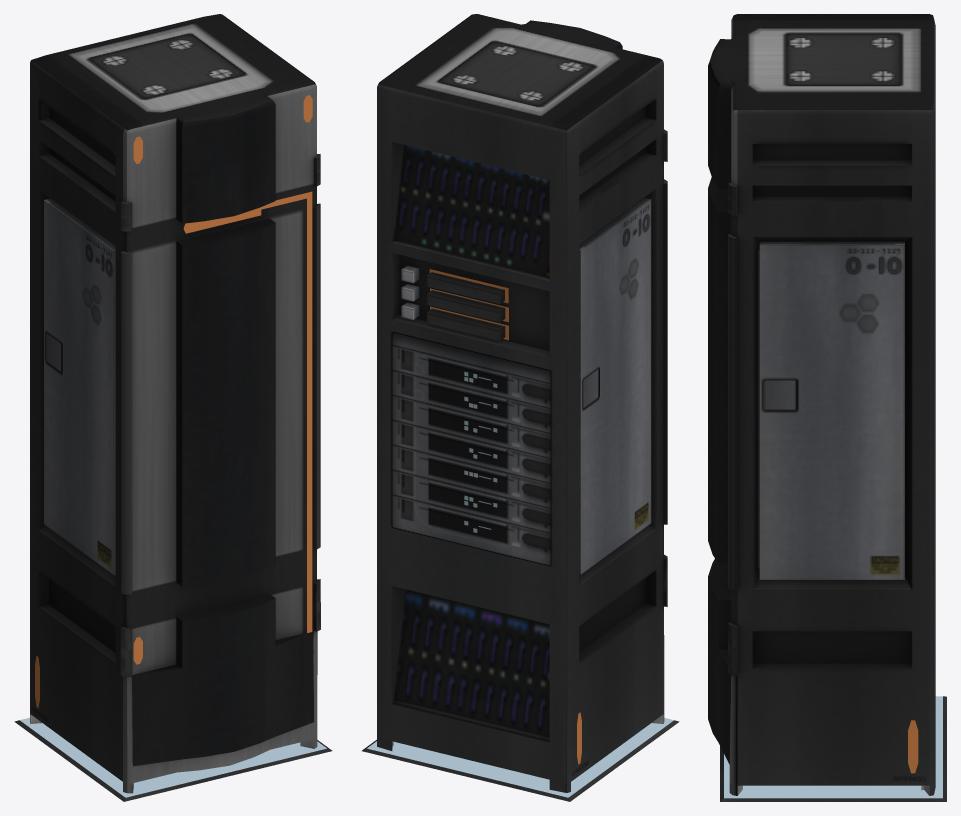
File: Server2.fbx
3 renders of one model, left to right at view 1: azimuth 30°, elevation 25°; view 2: azimuth 150°, elevation 25°; view 3: azimuth 270°, elevation 25°, orthographic. The views are drawn at different scales.
Visible parts, largest first — view 1: Server_Glowing, GlowingMesh, GlowingMesh1; view 2: Server_Glowing, GlowingMesh1, GlowingMesh; view 3: Server_Glowing, GlowingMesh1, GlowingMesh.
Part boxes in pixels (box(x1,y1,x2,y2)): Server_Glowing: box(14, 14, 332, 801); GlowingMesh: box(35, 95, 312, 708); GlowingMesh1: box(20, 717, 326, 797); Server_Glowing: box(362, 14, 679, 801); GlowingMesh1: box(367, 371, 673, 797); GlowingMesh: box(429, 269, 581, 764); Server_Glowing: box(708, 14, 946, 801); GlowingMesh1: box(724, 696, 942, 798); GlowingMesh: box(908, 720, 918, 773).
Bounding box in the file's own units: 1.22 × 3.72 × 1.17.
3 materials, 1 textured.
